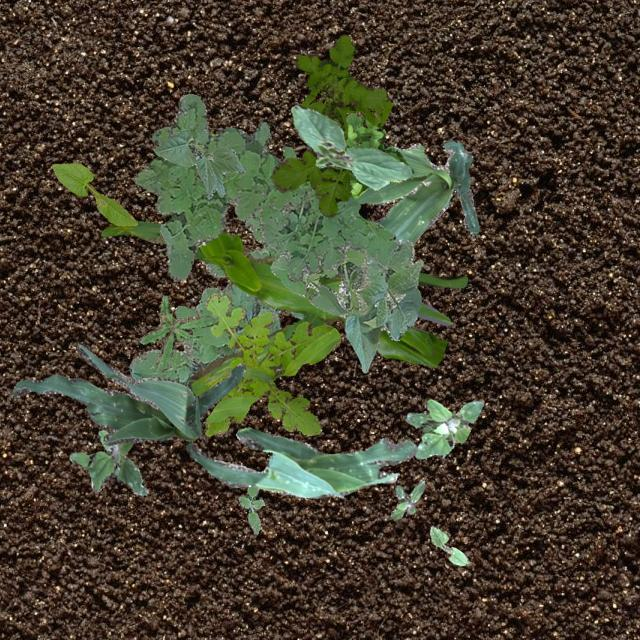crop: (100, 220, 467, 396), (11, 344, 244, 444), (338, 138, 478, 294), (270, 240, 422, 372), (184, 427, 416, 498), (290, 104, 412, 188), (153, 128, 244, 198), (52, 162, 136, 224), (428, 524, 468, 564)
weed: (132, 92, 398, 280), (128, 210, 304, 384), (269, 34, 392, 216), (202, 292, 340, 436), (138, 294, 218, 372), (344, 110, 406, 198), (68, 430, 146, 494), (404, 398, 482, 458), (390, 480, 424, 518), (238, 484, 264, 532)
